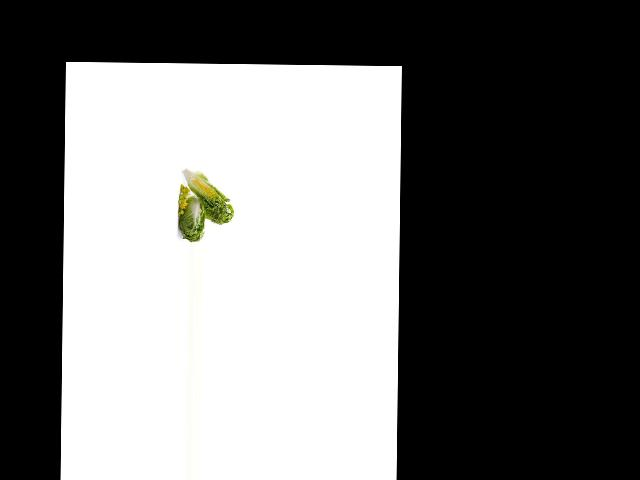lettuce: (175, 190, 207, 240)
